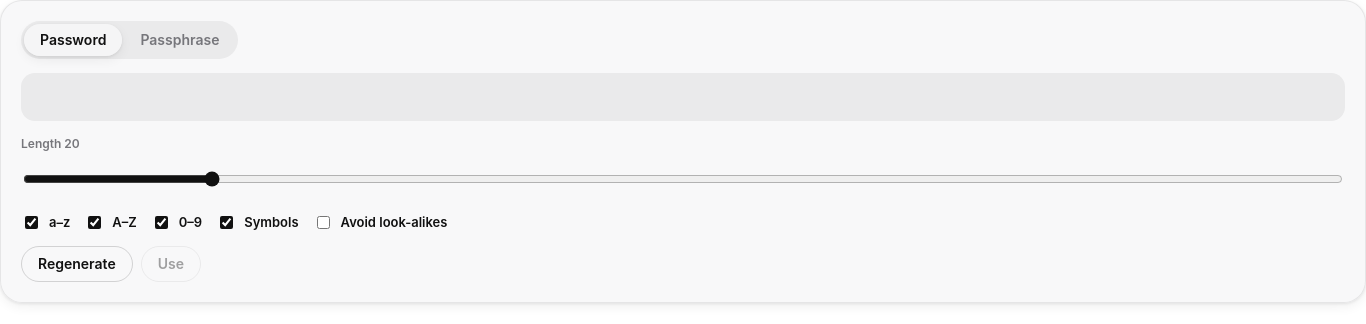
Test: ignores out-of-order replies
Step 1. Set the slider labelled "Length 20" to "32" → (371, 179), box [23,161,1343,197]
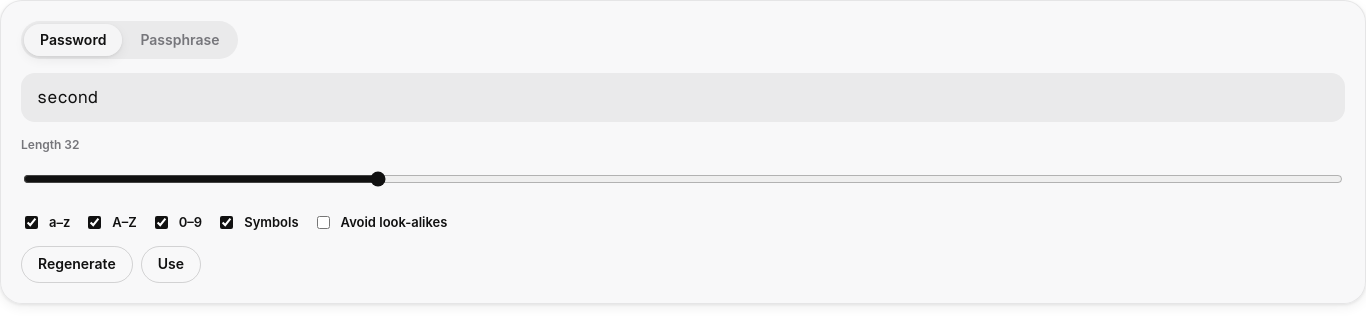
Now the text "second" is shown, box [21,73,1345,122]
